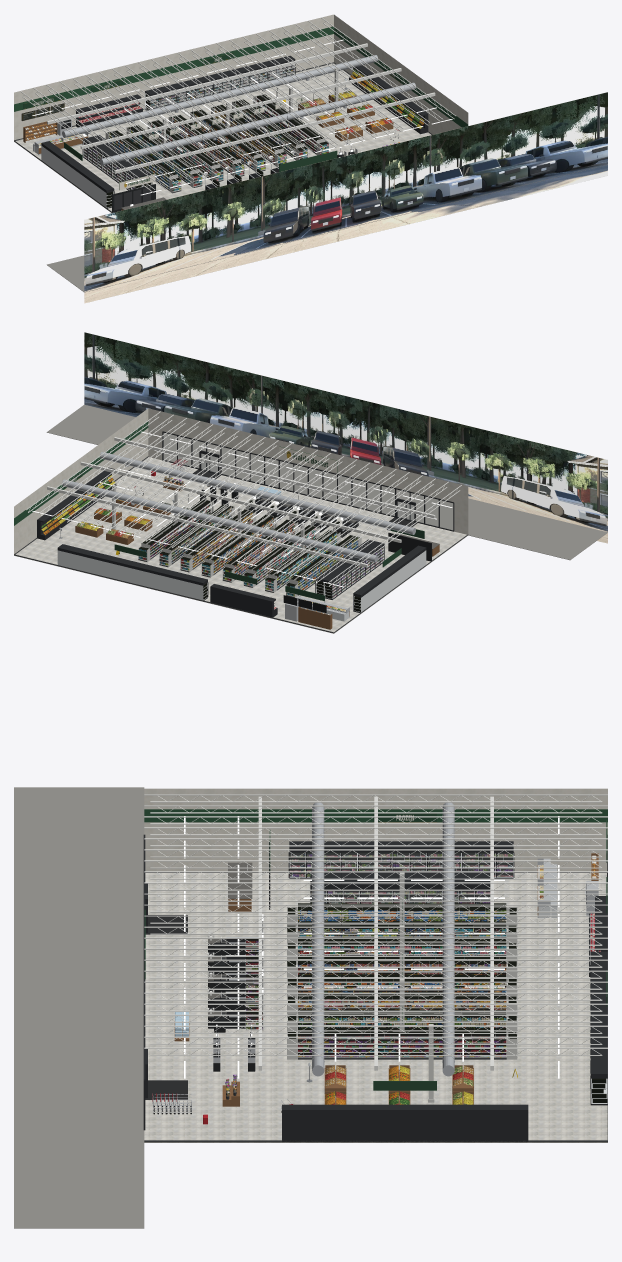
The model's file is us_market.glb.
3 views of the same model, one above another, from view 1: azimuth 30°, elevation 25°; view 2: azimuth 150°, elevation 25°; view 3: azimuth 270°, elevation 25° (orthographic). The views are drawn at different scales.
Parts seen in each view (by area): view 1: usm_outside_view, usm_joists, WALL_usm_walls, usm_products, usm_floor, usm_case_frame, usm_ducts, usm_band, usm_shelves, usm_aisle_signs, usm_case_back, usm_wood (+10 smaller); view 2: usm_outside_view, usm_joists, usm_outside_ground, usm_floor, WALL_usm_walls, usm_products, usm_case_frame, usm_ducts, usm_case_back, ck_glass, usm_shelves, usm_aisle_signs (+10 smaller); view 3: usm_outside_ground, usm_joists, usm_floor, usm_products, WALL_usm_walls, usm_case_frame, usm_ducts, usm_band, usm_shelves, usm_price, GLOW_usm_leds, usm_pegboard (+11 smaller).
Boxes of the visible parts, left/top/right/bottom form: usm_outside_view: left=84, top=92, right=607, bottom=303; usm_joists: left=20, top=17, right=455, bottom=192; WALL_usm_walls: left=14, top=14, right=468, bottom=140; usm_products: left=83, top=65, right=328, bottom=207; usm_floor: left=14, top=63, right=431, bottom=212; usm_case_frame: left=41, top=55, right=428, bottom=208; usm_ducts: left=62, top=55, right=415, bottom=165; usm_band: left=14, top=26, right=468, bottom=127; usm_shelves: left=105, top=94, right=328, bottom=192; usm_aisle_signs: left=23, top=52, right=401, bottom=190; usm_case_back: left=33, top=64, right=294, bottom=207; usm_wood: left=23, top=91, right=393, bottom=210; usm_outside_view: left=84, top=332, right=607, bottom=543; usm_joists: left=26, top=411, right=461, bottom=586; usm_outside_ground: left=46, top=404, right=607, bottom=560; usm_floor: left=14, top=457, right=467, bottom=633; WALL_usm_walls: left=14, top=408, right=468, bottom=553; usm_products: left=138, top=499, right=383, bottom=611; usm_case_frame: left=37, top=431, right=454, bottom=617; usm_ducts: left=62, top=451, right=415, bottom=562; usm_case_back: left=57, top=549, right=426, bottom=621; ck_glass: left=164, top=434, right=452, bottom=529; usm_shelves: left=138, top=498, right=361, bottom=597; usm_aisle_signs: left=64, top=446, right=424, bottom=601; usm_outside_ground: left=14, top=787, right=144, bottom=1228; usm_joists: left=144, top=794, right=607, bottom=1070; usm_floor: left=144, top=873, right=607, bottom=1142; usm_products: left=246, top=852, right=607, bottom=1102; WALL_usm_walls: left=144, top=788, right=607, bottom=871; usm_case_frame: left=143, top=834, right=607, bottom=1142; usm_ducts: left=312, top=802, right=454, bottom=1076; usm_band: left=144, top=809, right=607, bottom=822; usm_shelves: left=245, top=902, right=517, bottom=1059; usm_price: left=298, top=913, right=517, bottom=1057; GLOW_usm_leds: left=184, top=816, right=559, bottom=1078; usm_pegboard: left=298, top=906, right=506, bottom=1034.
Size of the model in its own units: 72 by 11 by 41.
40 materials, 16 textured.
